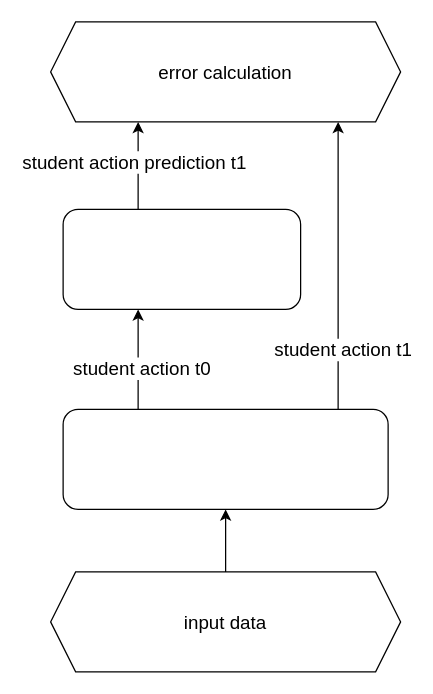
Some shapes in this 433 by 694 pixel diagram are drawn without their labels. The shapes that lost their labels are listed below. From the top down, each one's centre as x and y in pixels, then its label:
At (x=181, y=258): "KTM Factorization Model".
At (x=225, y=458): "GAIL".
